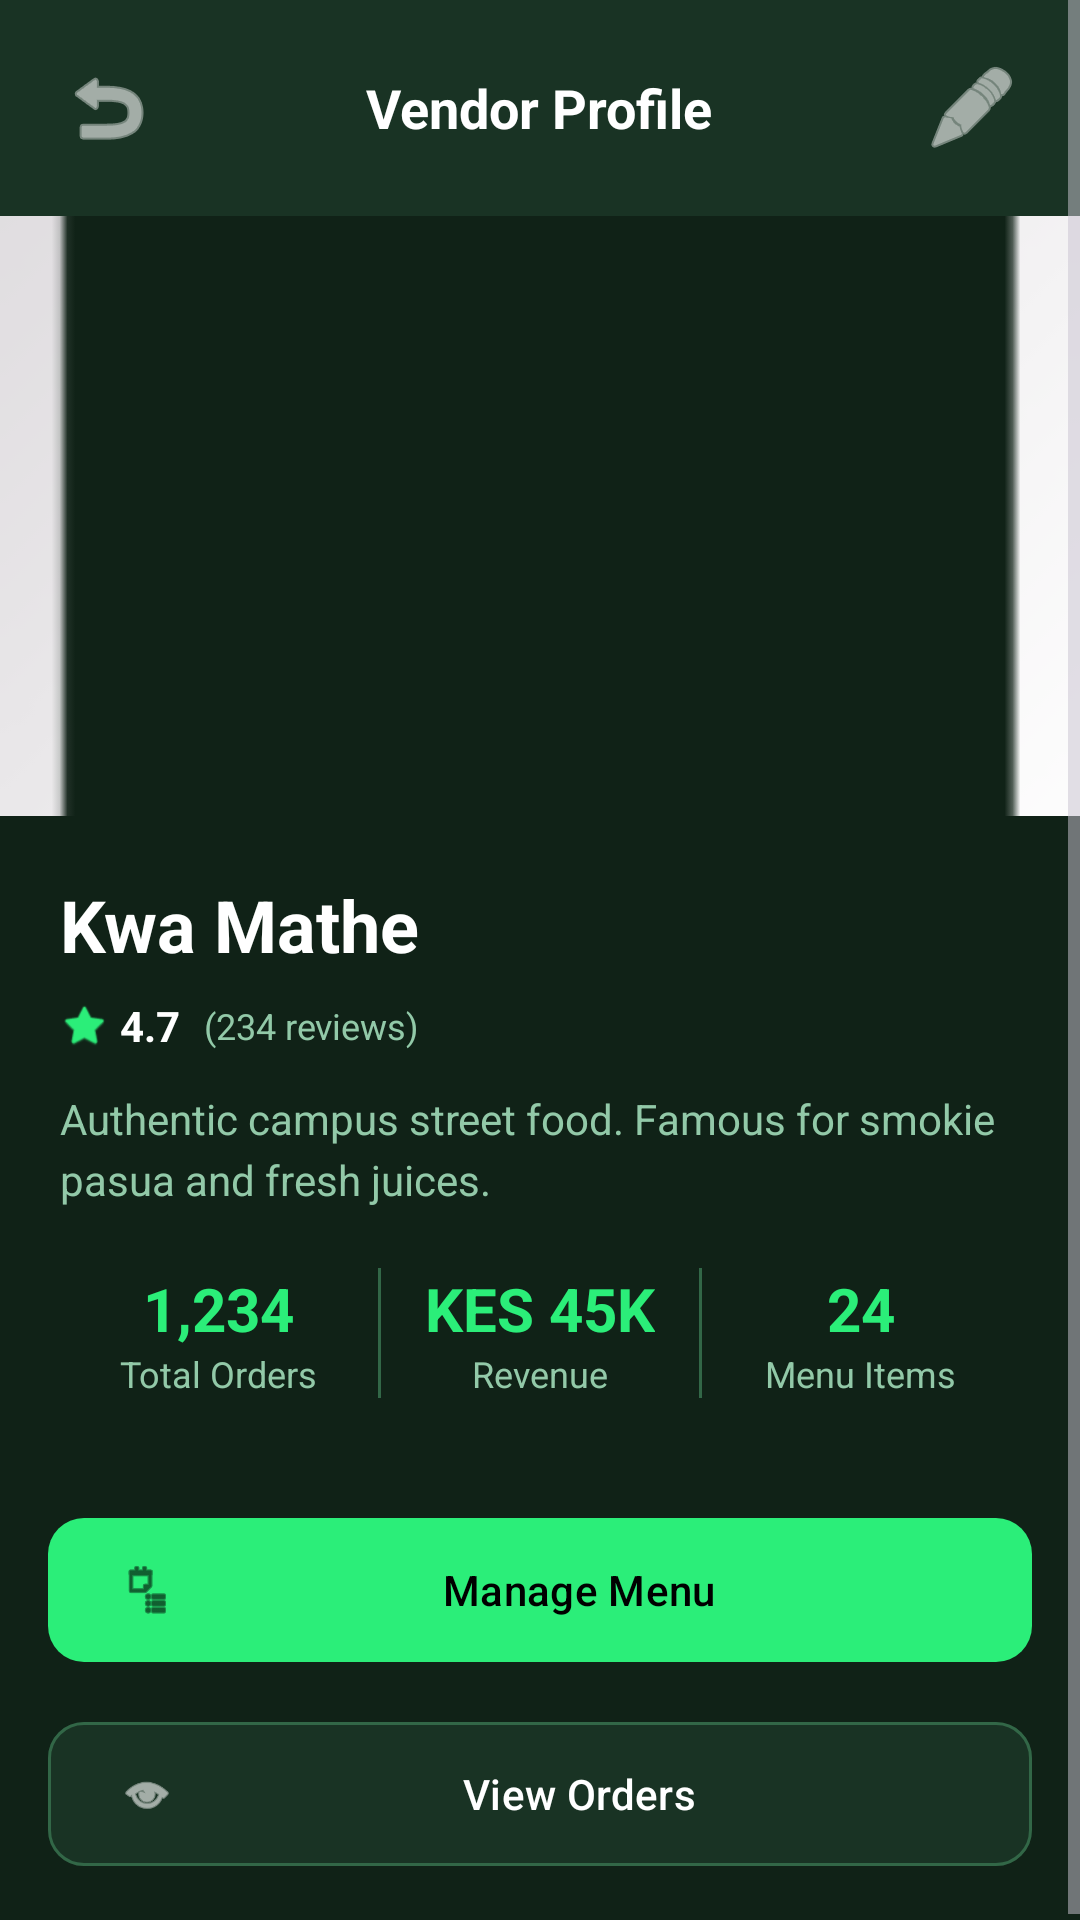

Icon bounding boxes for this 1080×1920 phone screenshot, format (x1, y1, x2, y2):
edit: (931, 67, 1012, 148)
revert: (75, 77, 144, 140)
star on: (64, 1006, 104, 1045)
